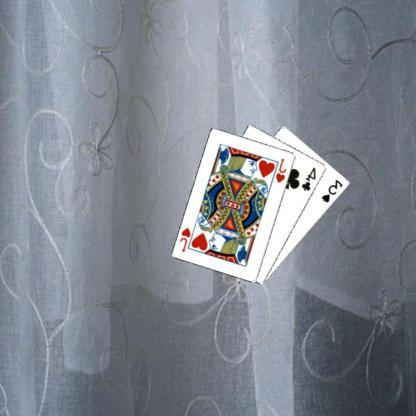3S: (321, 177, 346, 204)
4C: (301, 165, 319, 192)
JH: (275, 156, 290, 184), (179, 225, 194, 253)
